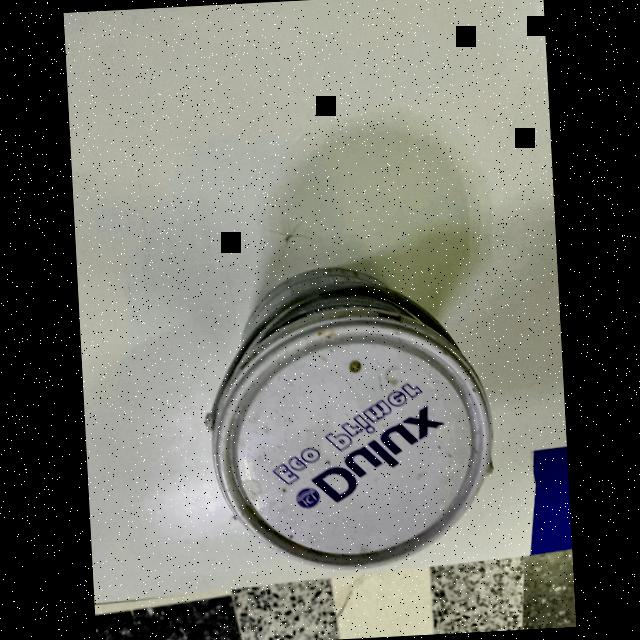paint_bucket: (192, 248, 513, 598)
